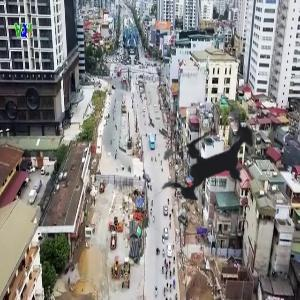drone: (128, 81, 296, 249)
